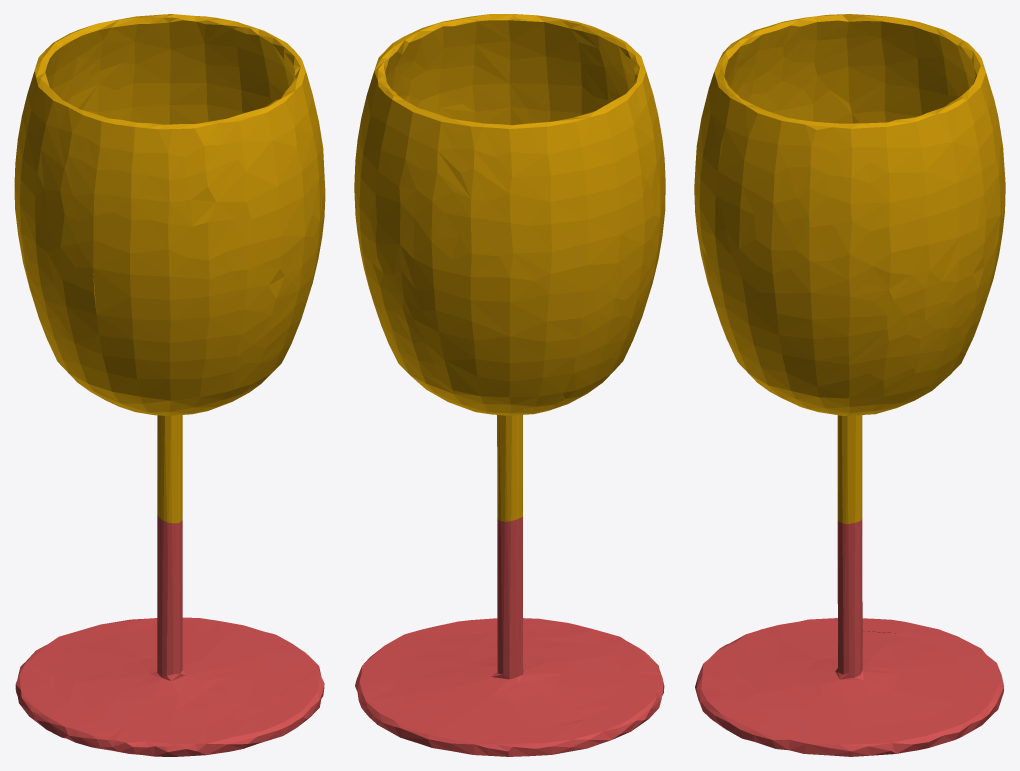
The model's file is fractured_29_2pcs.glb.
3 renders of one model, left to right at view 1: azimuth 30°, elevation 25°; view 2: azimuth 150°, elevation 25°; view 3: azimuth 270°, elevation 25°, orthographic.
Visible parts, largest first — view 1: piece_0.obj, piece_1.obj; view 2: piece_0.obj, piece_1.obj; view 3: piece_0.obj, piece_1.obj.
Boxes of the visible parts, x1,y1,x2,y2 form: piece_0.obj: (14, 14, 325, 523); piece_1.obj: (15, 515, 324, 756); piece_0.obj: (354, 14, 665, 521); piece_1.obj: (355, 517, 664, 756); piece_0.obj: (694, 14, 1005, 524); piece_1.obj: (695, 519, 1003, 756).
Size of the model in its own units: 0.4519 by 1 by 0.4521.
